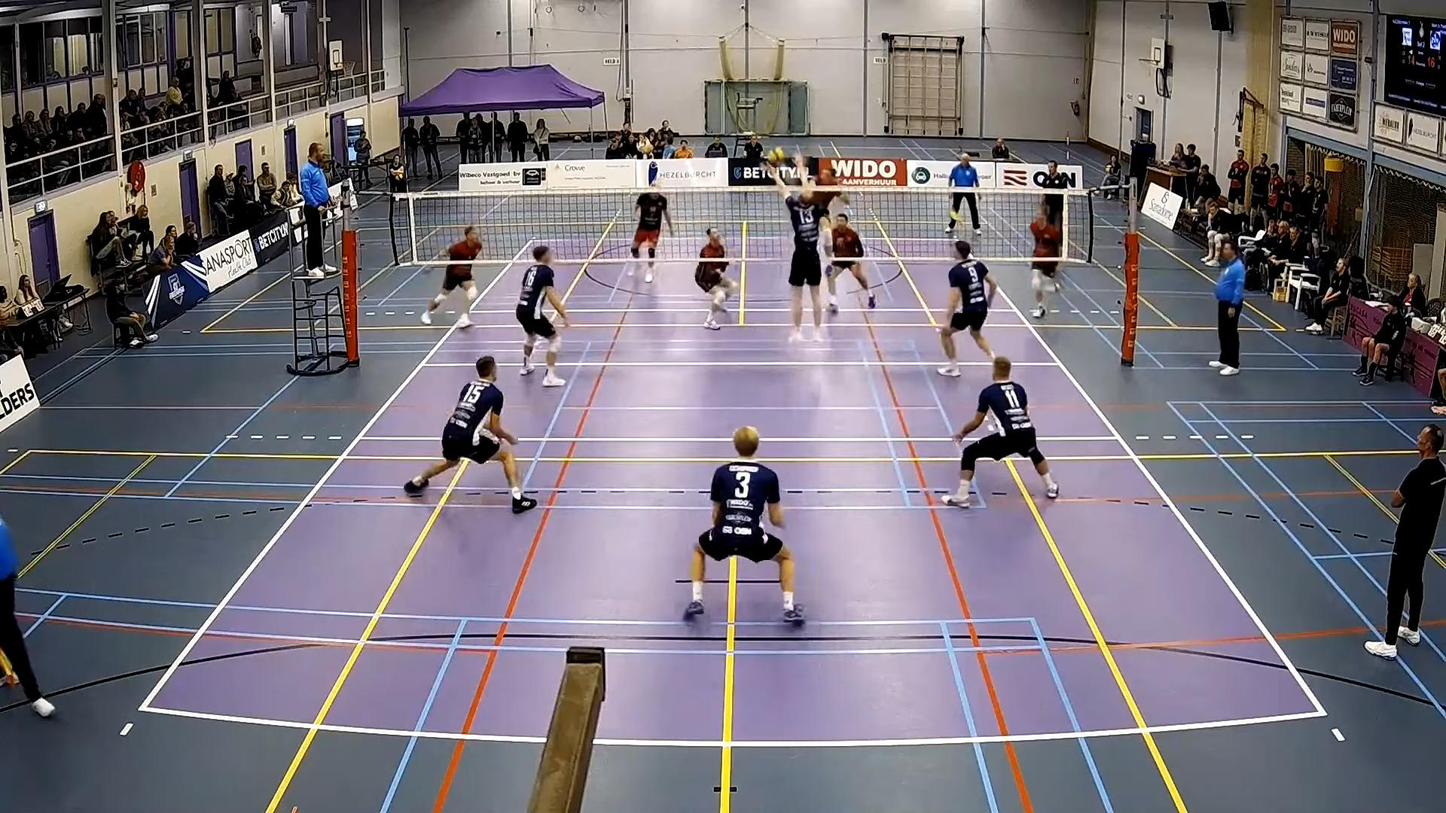attacco: (804, 156, 856, 279)
muro: (770, 163, 836, 335)
